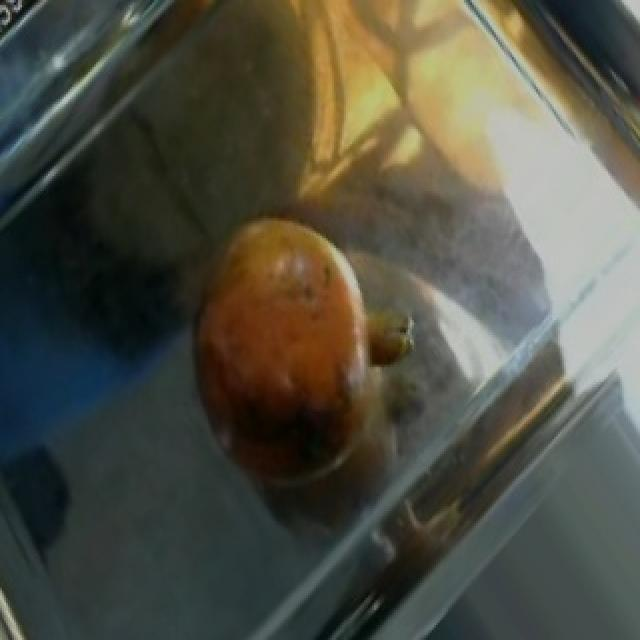fruit: (168, 188, 418, 462)
